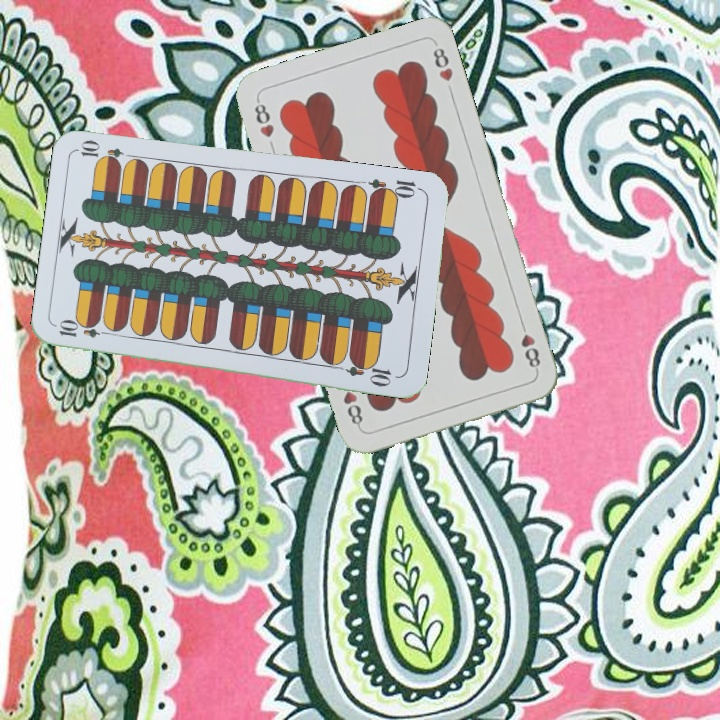E10: (365, 175, 424, 202), (55, 319, 114, 341)
H8: (516, 317, 543, 374), (250, 95, 277, 141)
